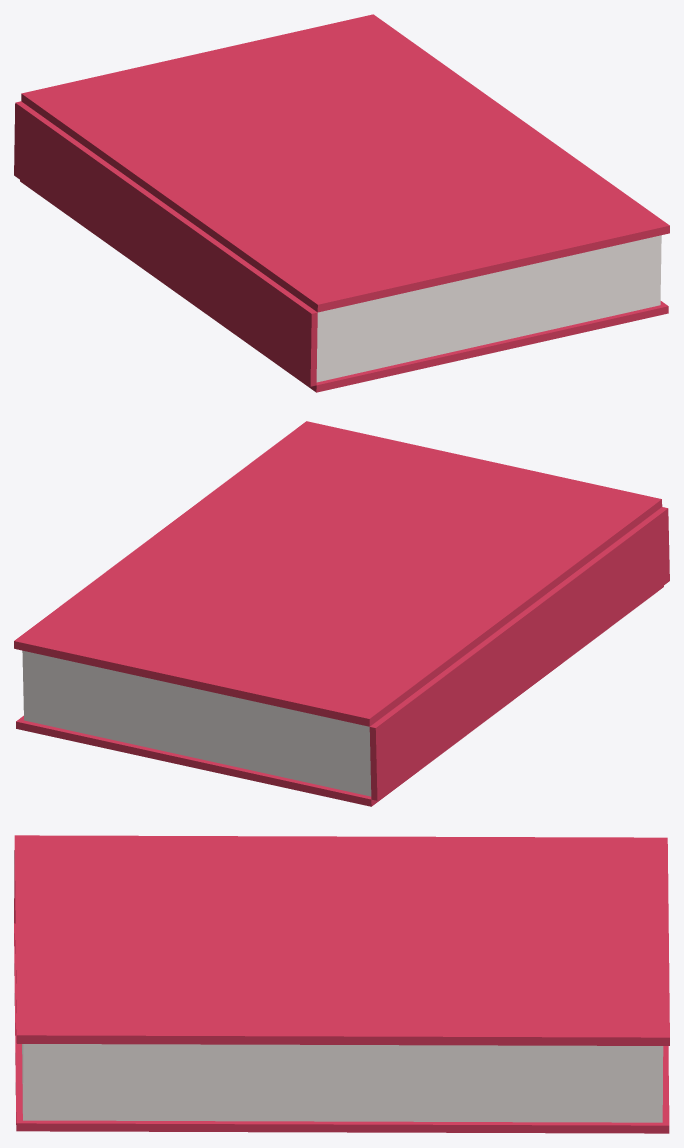
File: Libro.fbx
3 renders of one model, top to bottom at view 1: azimuth 30°, elevation 25°; view 2: azimuth 150°, elevation 25°; view 3: azimuth 270°, elevation 25°, orthographic. The views are drawn at different scales.
Visible parts, largest first — view 1: book; view 2: book; view 3: book.
Boxes of the visible parts, <box> form: book: <box>14,14,669,392</box>; book: <box>14,421,669,806</box>; book: <box>14,835,669,1133</box>.
Bounding box in the file's own units: 3753 × 969 × 5283.
